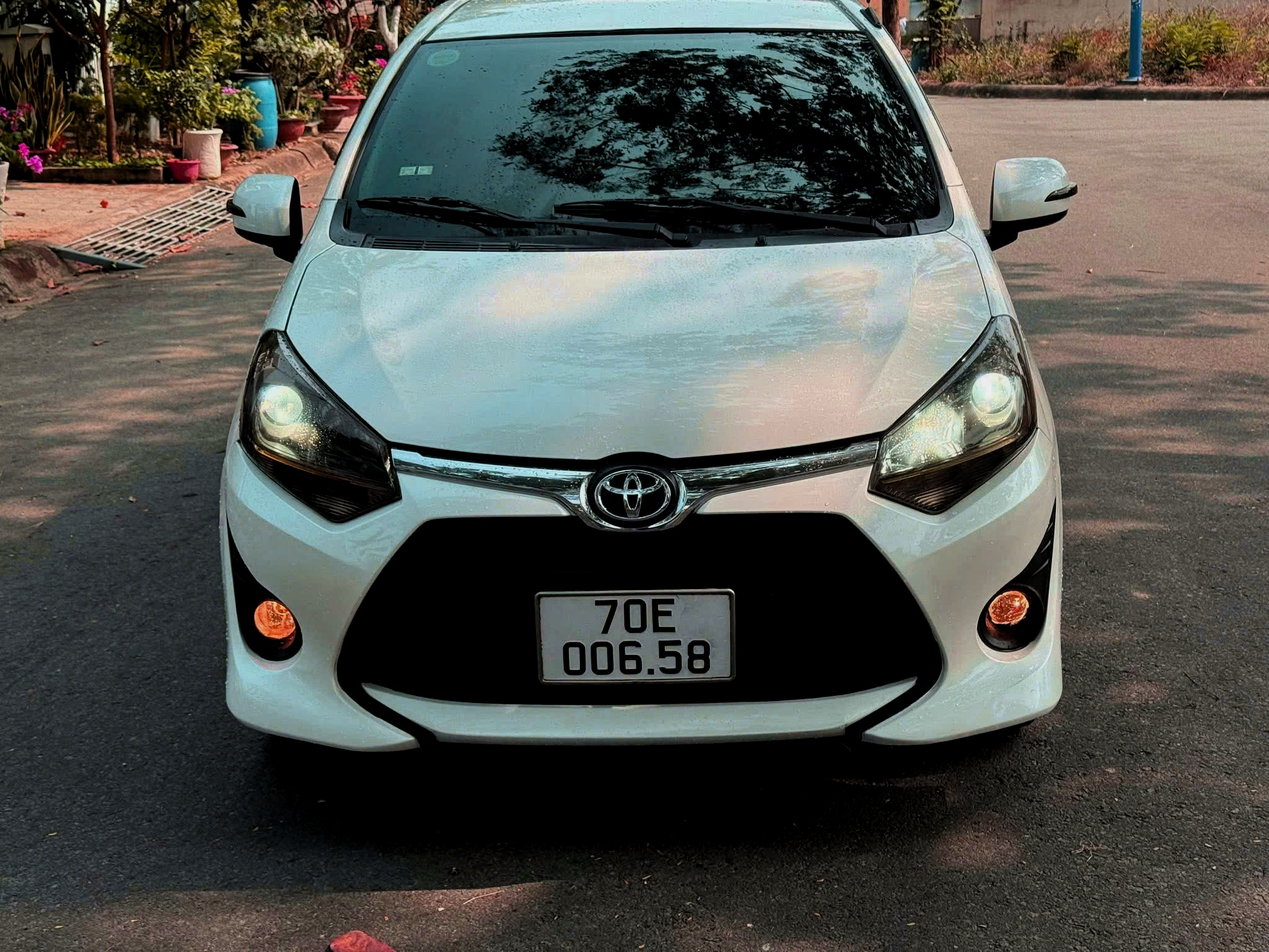Bien-so: (572, 606, 771, 707)
